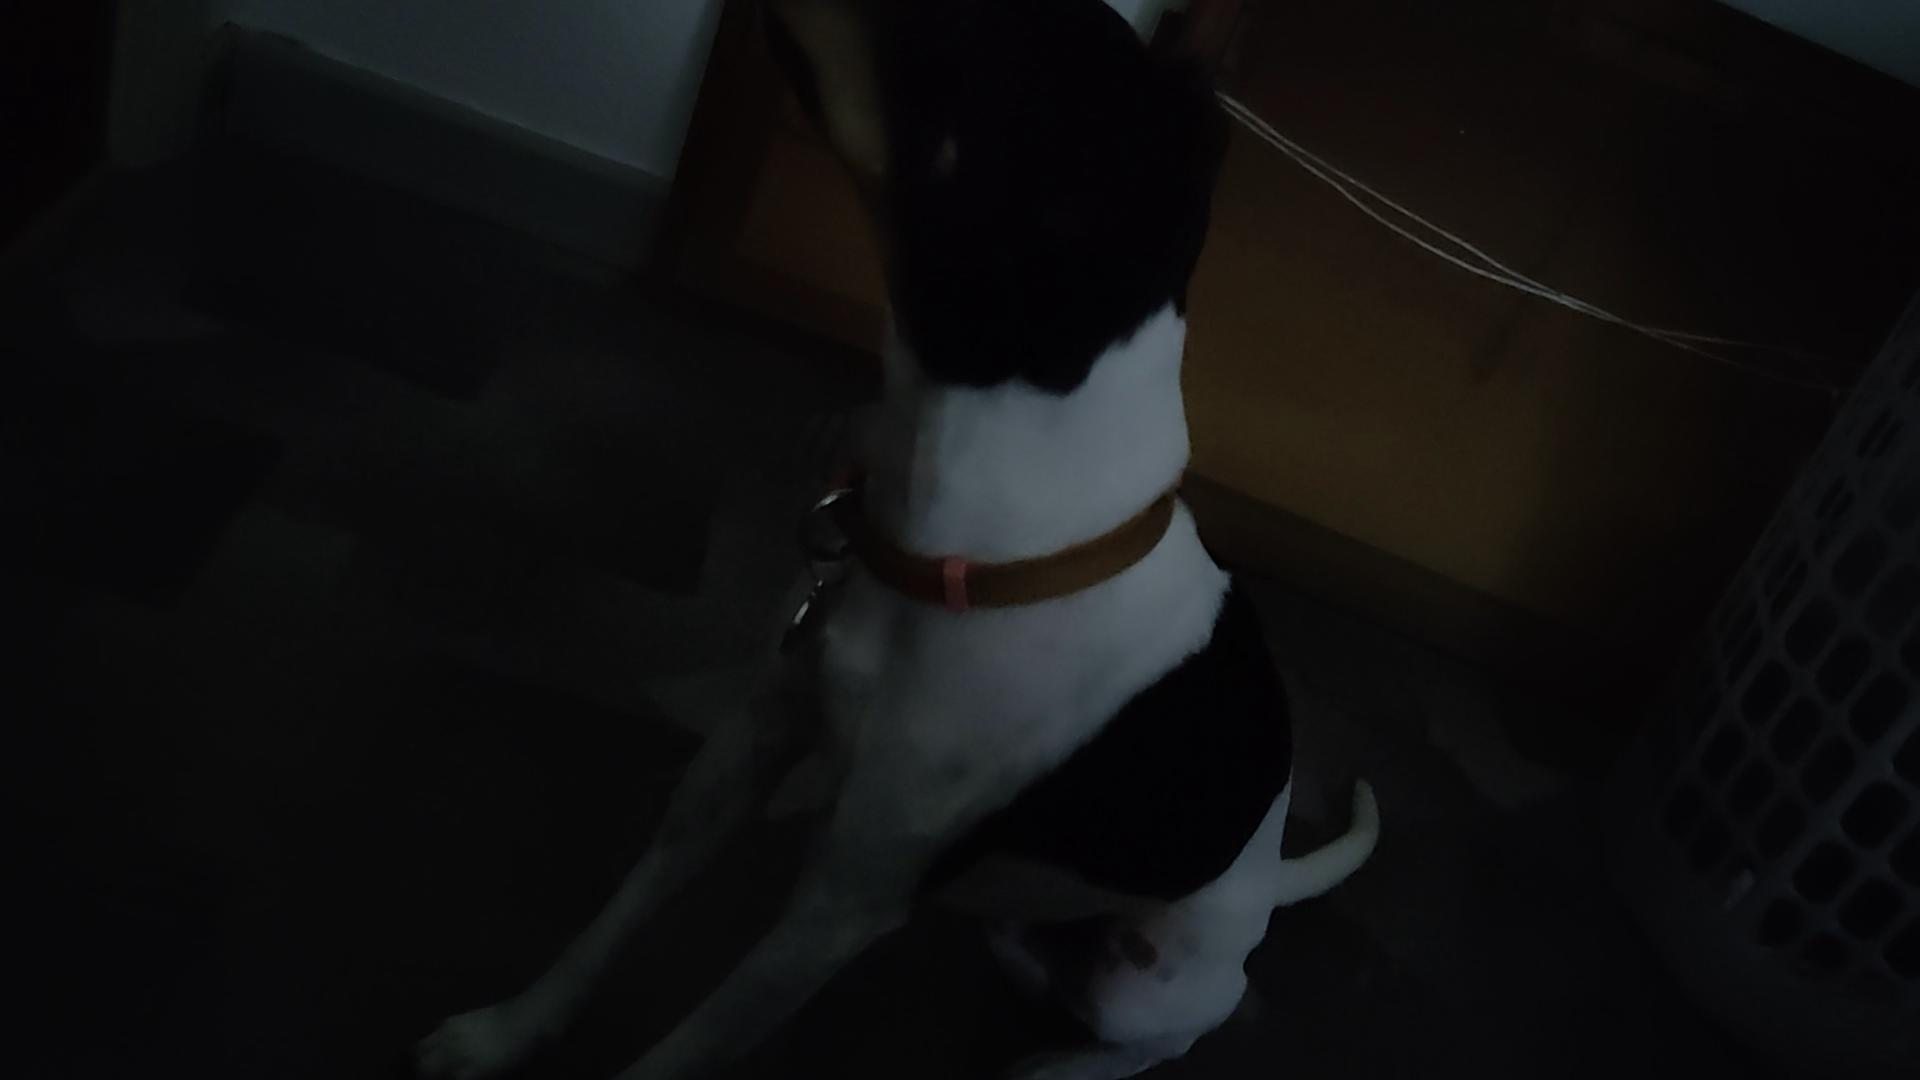Dog: (400, 0, 1391, 1079)
